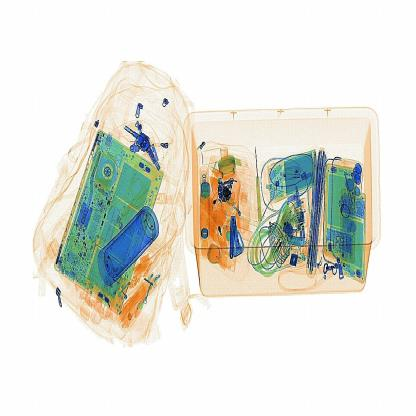wrench: (250, 144, 266, 224)
